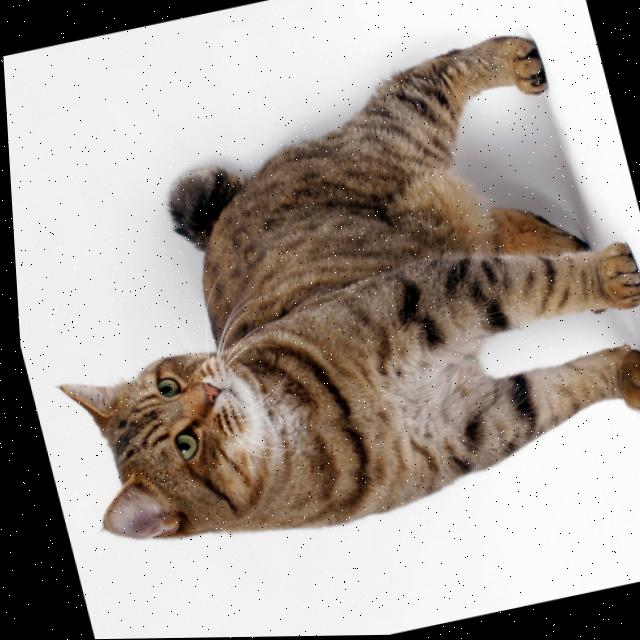American Bobtail: (1, 13, 640, 585)
